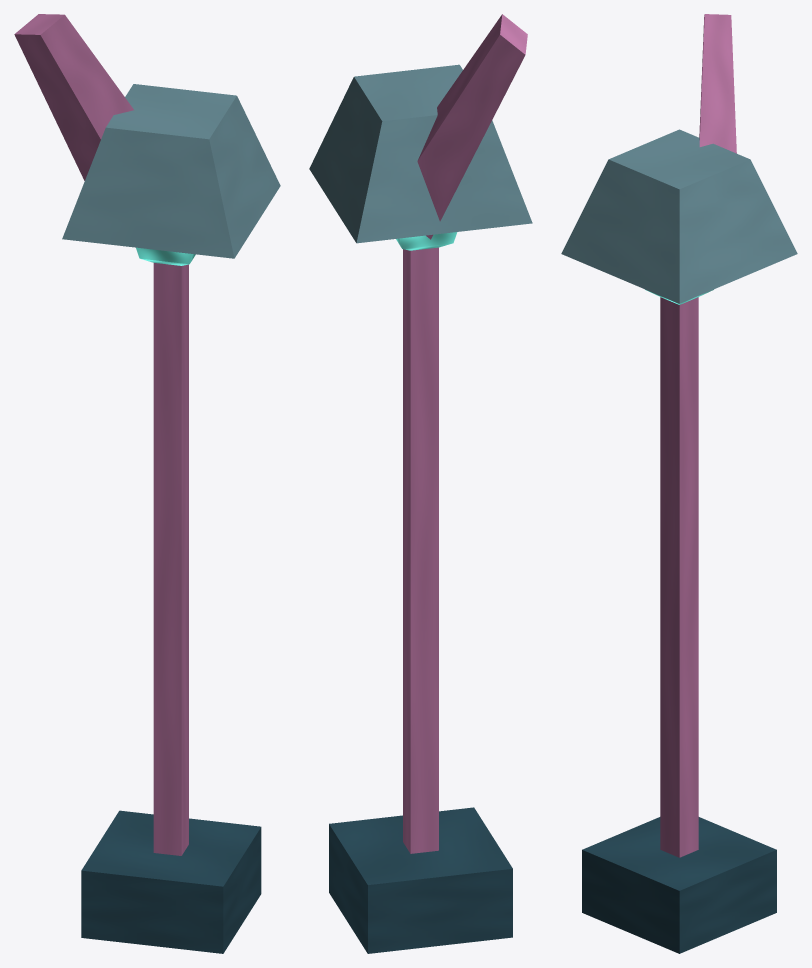
The model's file is atlas100-abyss-util01.lod2.glb.
3 views of the same model, side by side, from view 1: azimuth 30°, elevation 25°; view 2: azimuth 150°, elevation 25°; view 3: azimuth 270°, elevation 25° (orthographic). The views are drawn at different scales.
Parts seen in each view (by area): view 1: atlas100-abyss-util01:part-002, atlas100-abyss-util01:part-001, atlas100-abyss-util01:part-000, atlas100-abyss-util01:part-006, atlas100-abyss-util01:part-003; view 2: atlas100-abyss-util01:part-002, atlas100-abyss-util01:part-001, atlas100-abyss-util01:part-000, atlas100-abyss-util01:part-006, atlas100-abyss-util01:part-003; view 3: atlas100-abyss-util01:part-002, atlas100-abyss-util01:part-001, atlas100-abyss-util01:part-000, atlas100-abyss-util01:part-006.
Boxes of the visible parts, x1,y1,x2,y2 form: atlas100-abyss-util01:part-002: (62,84,280,258); atlas100-abyss-util01:part-001: (153,263,188,855); atlas100-abyss-util01:part-000: (81,810,261,953); atlas100-abyss-util01:part-006: (14,14,133,180); atlas100-abyss-util01:part-003: (136,247,195,265); atlas100-abyss-util01:part-002: (309,64,532,243); atlas100-abyss-util01:part-001: (403,247,438,853); atlas100-abyss-util01:part-000: (329,807,512,953); atlas100-abyss-util01:part-006: (417,14,527,239); atlas100-abyss-util01:part-003: (396,232,457,250); atlas100-abyss-util01:part-002: (561,129,797,303); atlas100-abyss-util01:part-001: (660,297,698,857); atlas100-abyss-util01:part-000: (582,817,776,953); atlas100-abyss-util01:part-006: (699,14,736,153).
Size of the model in its own units: 0.7946 by 2.9 by 0.7269.
4 materials, 4 textured.
